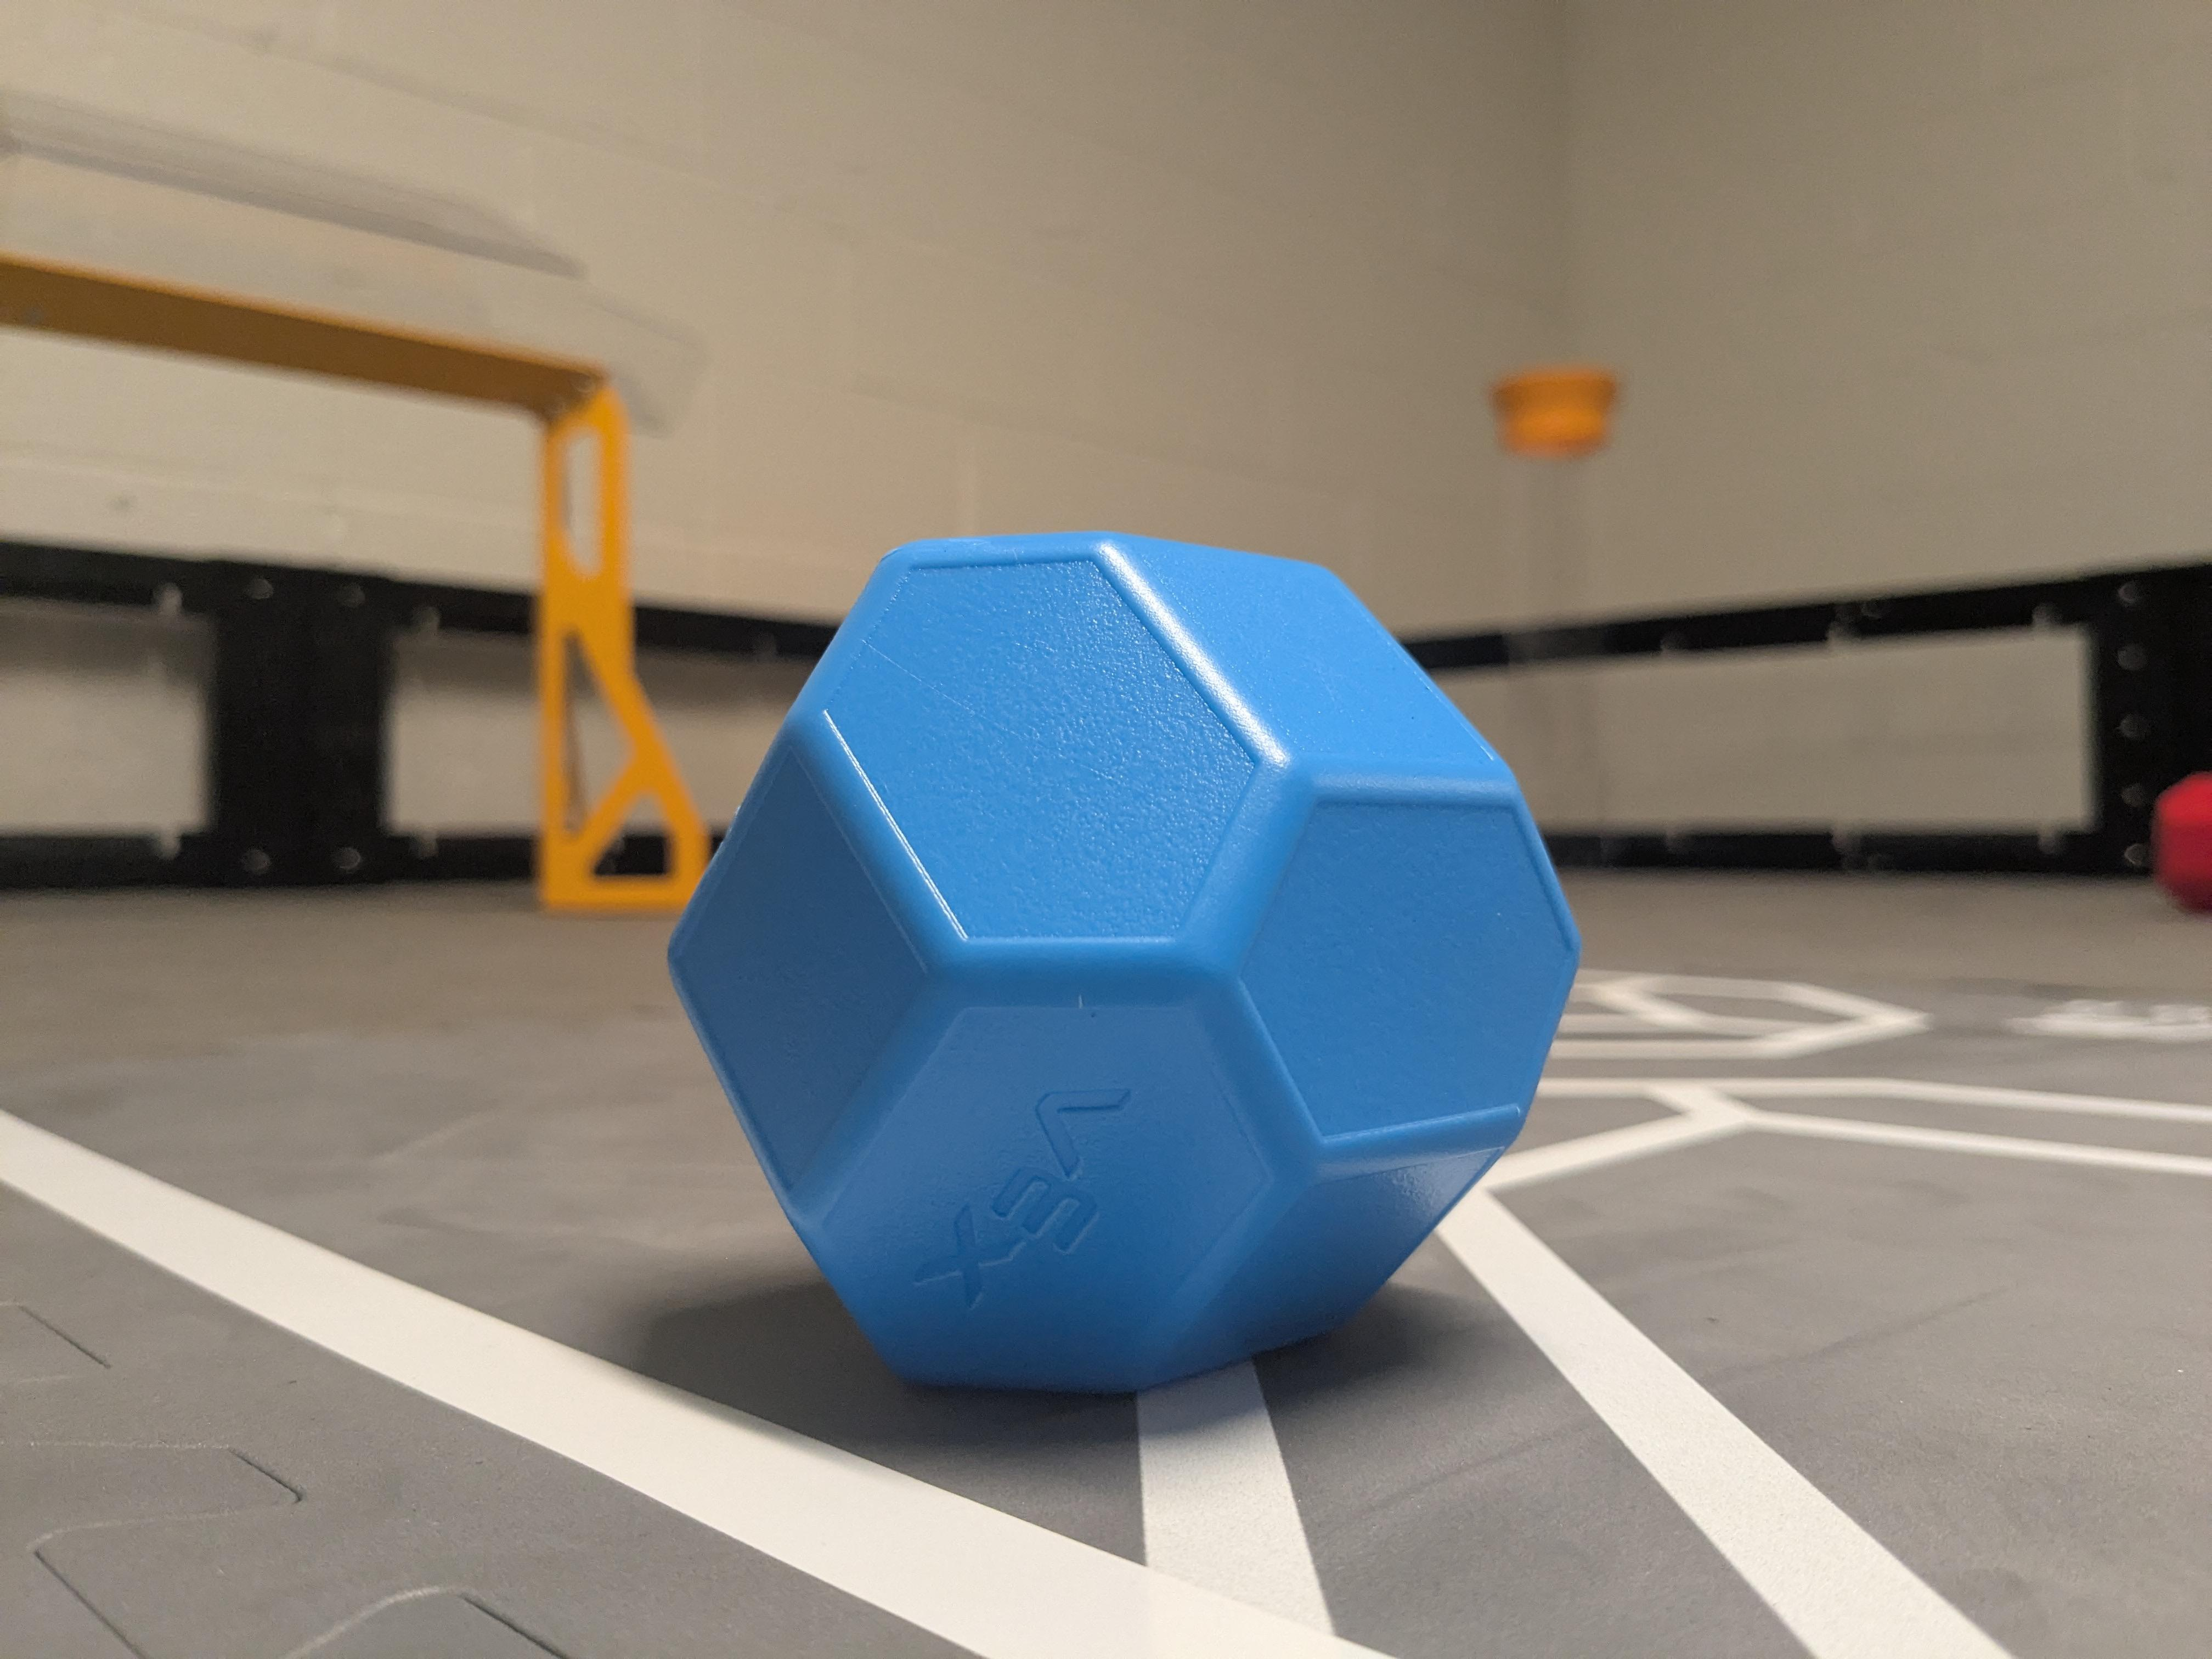Vex-Pieces-BLUE: (662, 537, 1583, 1406)
